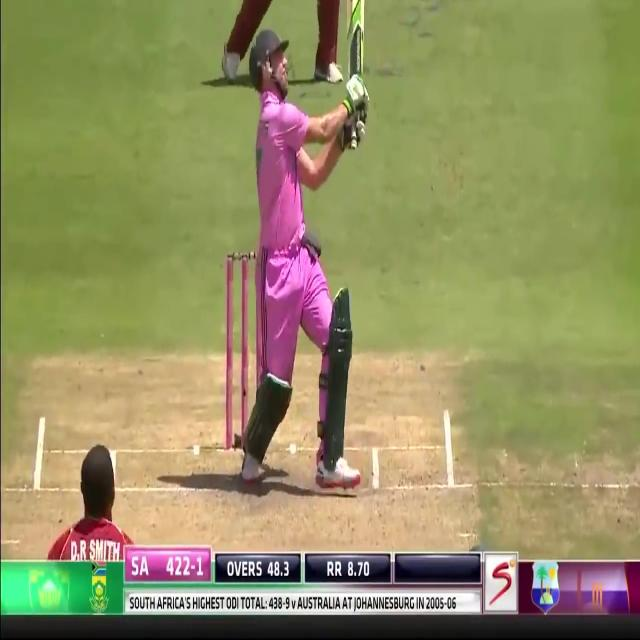Ball: (225, 11, 364, 490)
